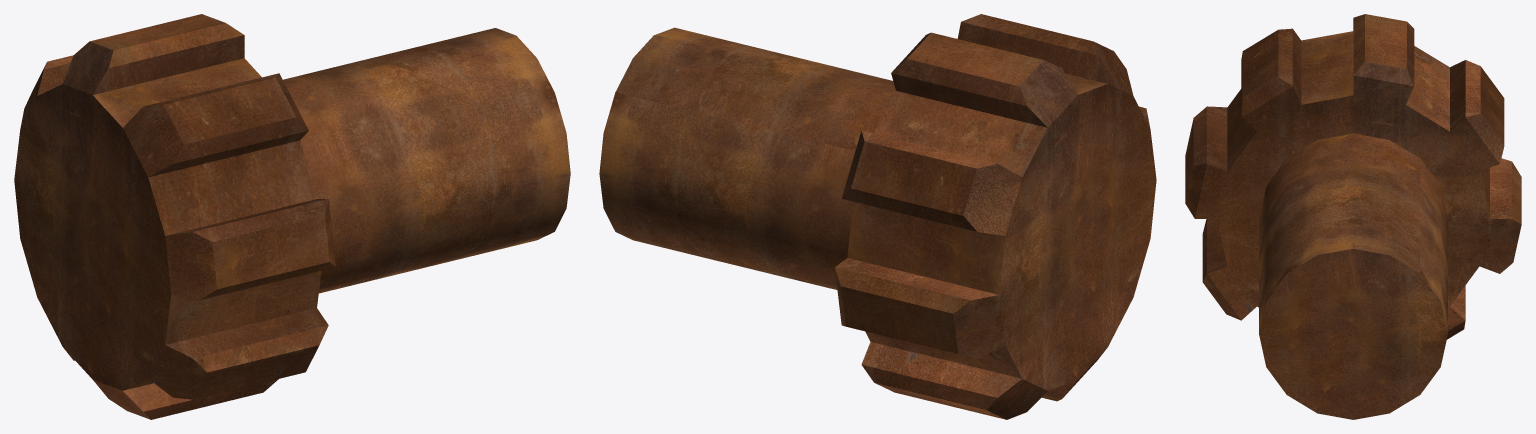
The model's file is door gear.fbx.
The picture shows the model from 3 angles, left to right: view 1: azimuth 30°, elevation 25°; view 2: azimuth 150°, elevation 25°; view 3: azimuth 270°, elevation 25°; orthographic projection. The views are drawn at different scales.
Parts seen in each view (by area): view 1: Cylinder; view 2: Cylinder; view 3: Cylinder.
Boxes of the visible parts, x1,y1,x2,y2 form: Cylinder: [14, 14, 570, 419]; Cylinder: [599, 14, 1156, 419]; Cylinder: [1185, 14, 1521, 419].
Bounding box in the file's own units: 312 × 247 × 247.
